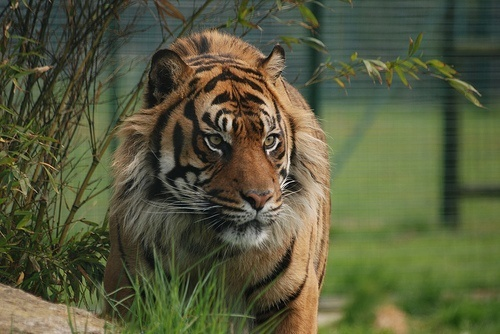tigre: (105, 30, 336, 334)
